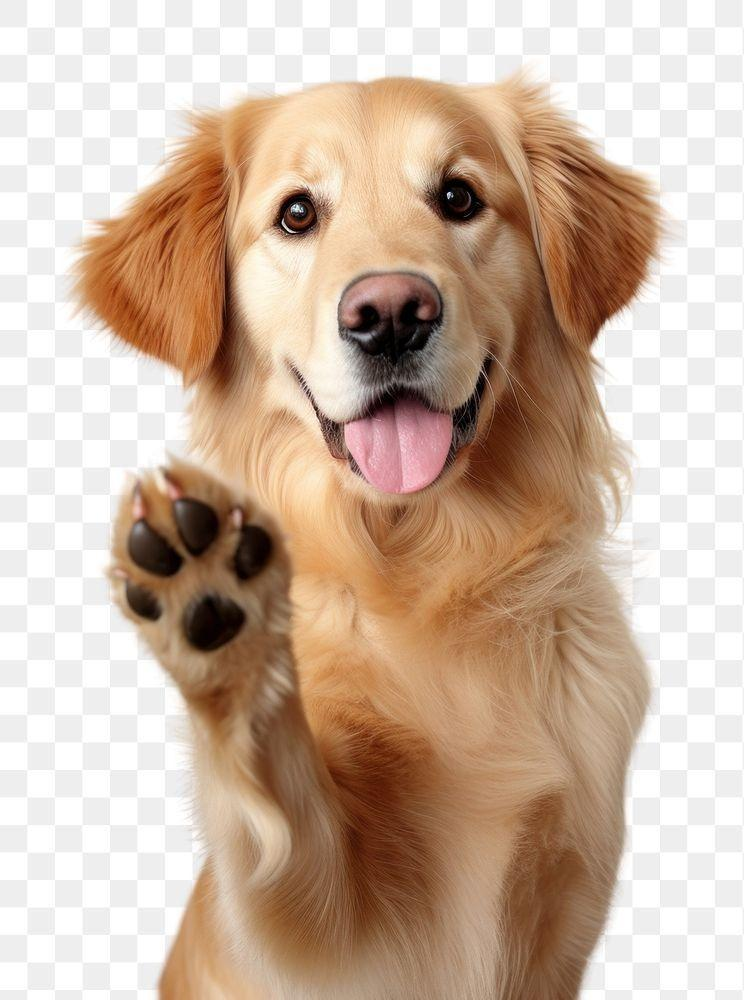adult_dog: (64, 62, 678, 1000)
